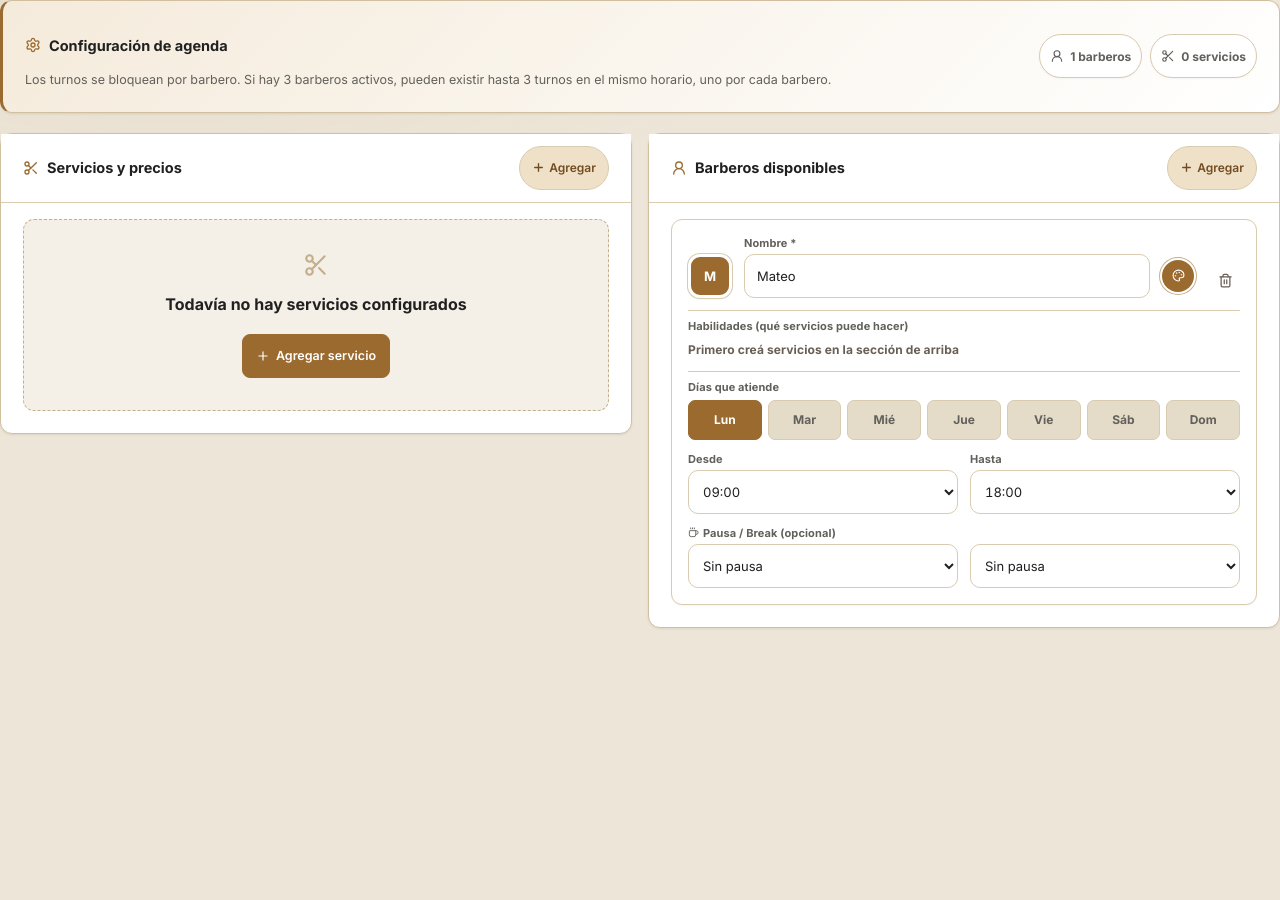
it: Operación: profesional sin días laborales (42) › rechazar quitar el último día conserva el horario anterior y muestra error
Click the button "Lun": coordinates (725, 420) x1=688 y1=400 x2=762 y2=440
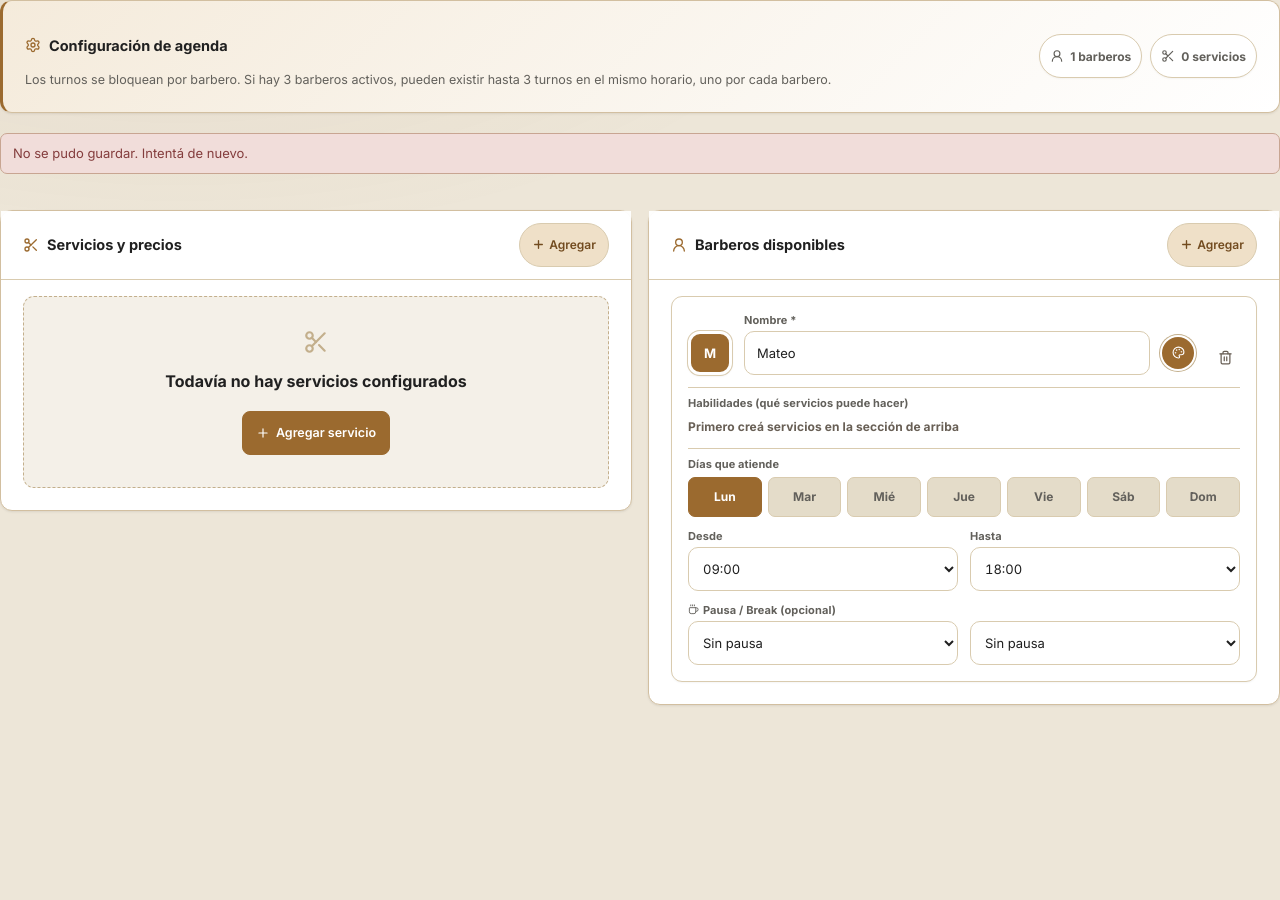
Check: the text "No se pudo guardar. Intentá de nuevo." is shown, box x1=0 y1=133 x2=1279 y2=174
